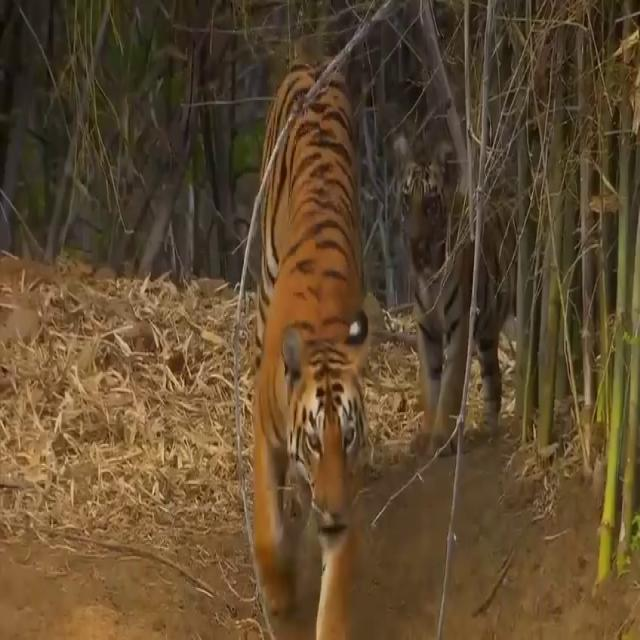tiger: (252, 57, 371, 640)
